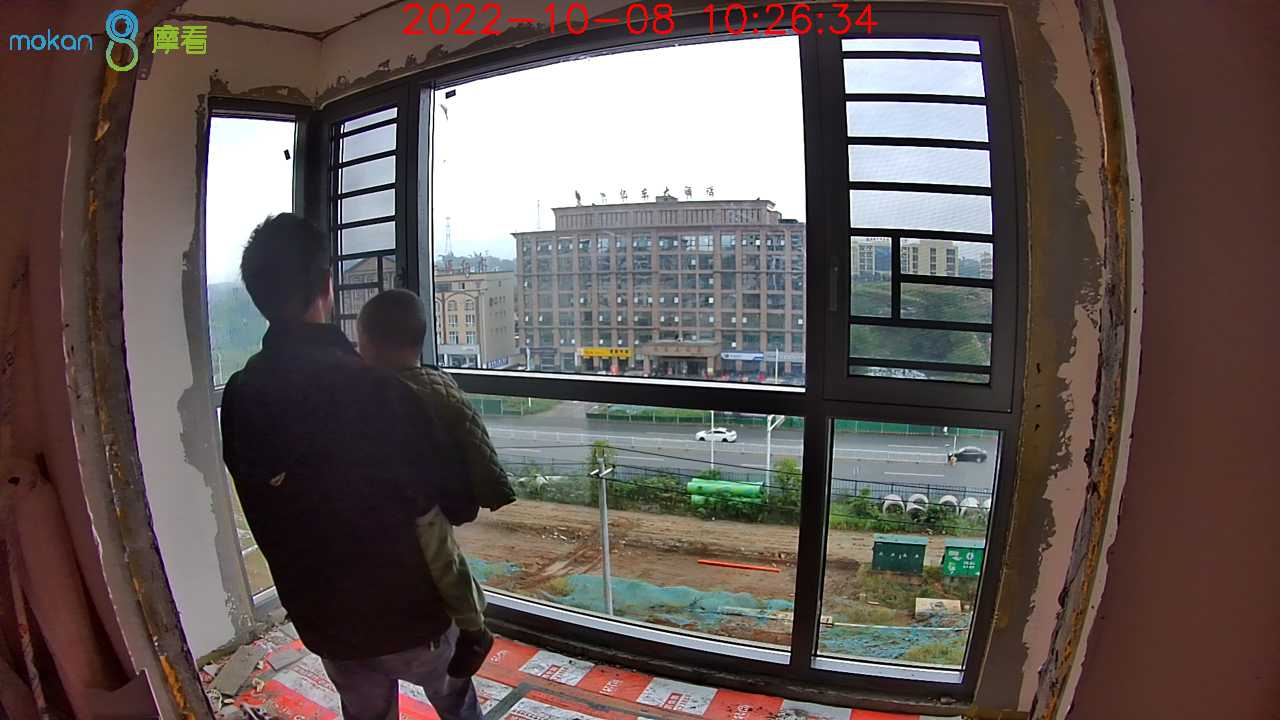people: (224, 212, 520, 720)
window: (189, 2, 1024, 705)
